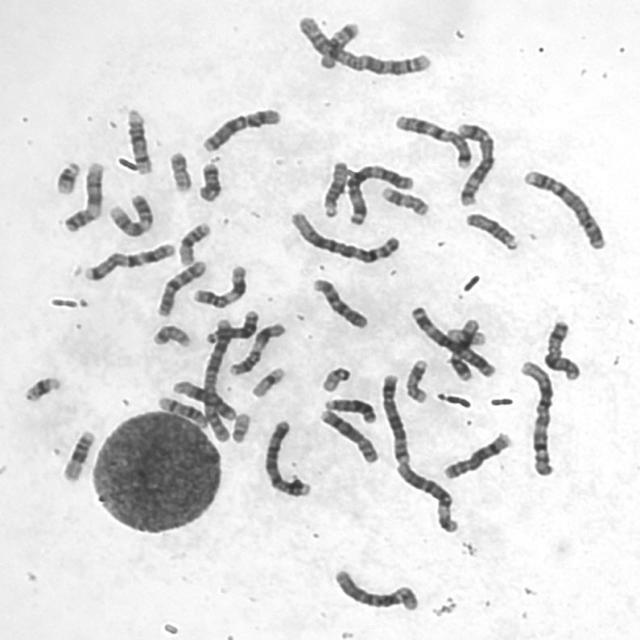A1: (286, 208, 402, 265), (515, 356, 557, 478)
A2: (294, 11, 433, 77), (199, 314, 236, 442)
A3: (406, 301, 498, 378), (342, 160, 416, 227)
B4: (520, 165, 609, 252), (260, 416, 313, 498)
B5: (453, 119, 498, 208), (378, 369, 413, 466)
C10: (308, 274, 370, 332), (153, 256, 209, 318)
C11: (226, 319, 288, 378), (188, 261, 250, 310)
C12: (168, 377, 238, 422), (444, 317, 482, 383)
C6: (392, 460, 461, 536), (329, 565, 421, 613)
C7: (391, 110, 474, 170), (80, 239, 177, 283)
C8: (315, 405, 381, 466), (440, 428, 514, 482)
C9: (59, 157, 106, 234), (104, 190, 154, 239)
D13: (201, 306, 260, 344), (320, 394, 378, 425)
D14: (122, 104, 154, 176), (154, 392, 210, 429)
D15: (461, 209, 521, 252), (319, 157, 350, 219)
E16: (57, 426, 97, 484), (175, 218, 212, 267)
E17: (377, 182, 430, 218), (402, 355, 431, 405)
E18: (318, 21, 359, 69), (194, 158, 224, 204)
F19: (247, 364, 287, 399), (443, 323, 488, 347)
F20: (164, 148, 193, 195), (149, 321, 193, 350)
G21: (19, 372, 64, 404), (51, 157, 82, 196)
G22: (317, 364, 353, 394), (228, 408, 253, 445)
X: (196, 104, 284, 154), (540, 316, 583, 382)
